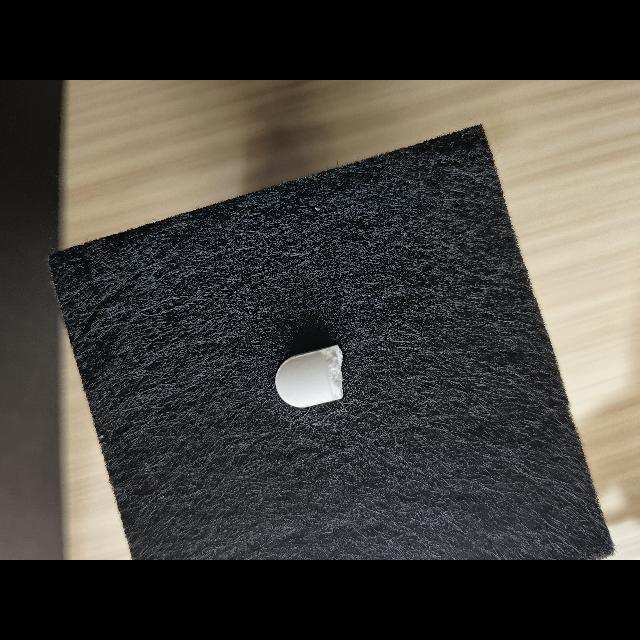Chipped Pill: (275, 345, 344, 408)
